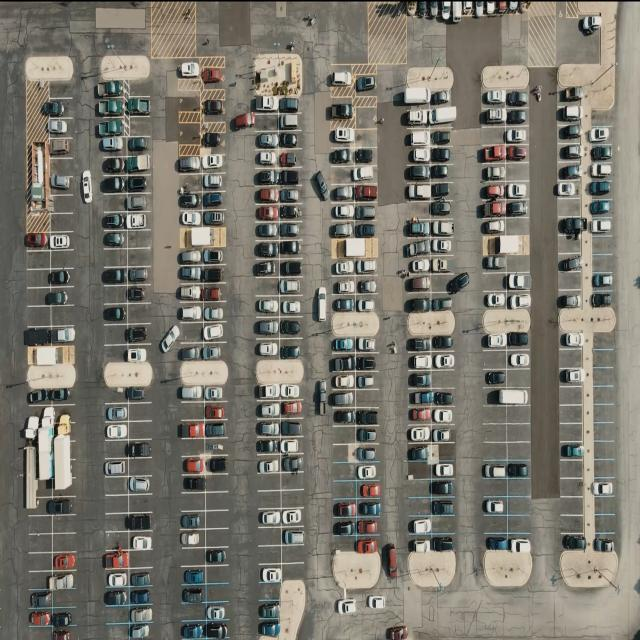space-empty: (486, 405, 530, 426), (353, 105, 378, 128), (197, 227, 225, 247), (104, 323, 129, 345), (27, 306, 52, 328), (178, 321, 203, 342), (501, 370, 530, 388), (557, 199, 583, 219), (482, 478, 508, 498), (102, 192, 128, 212), (254, 276, 280, 296), (28, 533, 54, 553), (28, 552, 54, 572), (128, 230, 154, 250), (482, 350, 508, 370), (52, 306, 76, 327), (178, 124, 202, 145), (127, 304, 151, 325), (508, 478, 533, 498), (205, 490, 230, 510), (353, 129, 378, 149), (333, 424, 358, 444), (129, 420, 154, 440), (178, 402, 203, 422), (508, 496, 533, 516), (102, 285, 128, 304), (50, 195, 76, 214), (482, 442, 508, 461), (28, 515, 54, 534), (180, 548, 206, 567), (258, 490, 284, 509), (128, 248, 154, 267), (405, 201, 431, 220), (127, 117, 151, 137), (105, 530, 129, 550), (558, 386, 582, 406), (180, 491, 204, 511), (258, 526, 282, 546), (26, 250, 50, 270), (207, 564, 231, 584), (130, 550, 154, 570), (592, 385, 616, 405), (206, 510, 230, 530), (408, 478, 432, 498), (104, 477, 129, 496), (482, 273, 507, 292), (409, 460, 434, 479), (332, 462, 357, 481), (592, 332, 617, 351), (49, 79, 74, 98), (481, 128, 507, 146), (104, 605, 130, 623), (504, 514, 530, 532), (593, 421, 615, 442), (559, 478, 582, 498), (355, 388, 378, 408), (593, 441, 616, 461), (127, 77, 151, 96), (560, 349, 584, 368), (506, 163, 530, 182), (104, 513, 128, 532), (54, 532, 78, 551), (177, 173, 201, 192), (29, 570, 53, 589), (508, 442, 532, 461), (558, 235, 582, 254), (593, 349, 617, 368), (103, 440, 127, 459), (130, 494, 154, 513), (204, 473, 228, 492), (258, 473, 282, 492), (129, 403, 153, 422), (104, 495, 128, 514), (178, 95, 202, 114), (593, 366, 617, 385), (128, 457, 152, 476), (333, 480, 357, 499), (560, 496, 584, 515), (51, 212, 75, 231), (560, 515, 584, 534), (280, 562, 304, 581), (180, 440, 205, 458), (53, 590, 78, 608), (280, 546, 305, 564), (255, 113, 280, 131), (180, 602, 205, 620), (430, 516, 455, 534), (506, 423, 531, 441), (26, 270, 51, 288), (28, 288, 53, 306), (484, 516, 510, 533), (590, 255, 612, 275), (594, 496, 616, 516), (594, 458, 616, 478), (432, 274, 454, 294), (280, 471, 303, 490), (591, 236, 614, 255), (281, 489, 304, 508), (260, 546, 283, 565), (433, 371, 456, 390), (206, 528, 229, 547), (409, 496, 432, 515), (54, 516, 78, 534), (102, 248, 126, 266), (507, 256, 531, 274), (330, 167, 354, 185), (506, 217, 530, 235), (104, 385, 128, 403), (50, 158, 74, 176), (589, 108, 613, 126), (484, 424, 508, 442), (594, 405, 616, 424), (560, 423, 582, 442), (560, 459, 583, 477), (260, 584, 283, 602), (51, 250, 74, 268), (558, 273, 581, 291), (560, 406, 583, 424), (207, 584, 230, 602), (434, 444, 457, 462), (595, 515, 616, 534), (104, 346, 127, 363), (106, 624, 130, 640), (333, 445, 355, 462), (333, 536, 356, 552), (30, 627, 53, 640)
space-occupied: (484, 386, 528, 406), (485, 532, 526, 551), (484, 367, 520, 387), (94, 96, 123, 117), (331, 65, 355, 90), (97, 116, 127, 136), (45, 97, 72, 119), (331, 100, 355, 124), (430, 105, 456, 127), (405, 181, 432, 202), (404, 106, 431, 127), (405, 292, 433, 312), (95, 78, 123, 98), (402, 89, 430, 109), (202, 64, 226, 87), (256, 296, 281, 318), (126, 96, 152, 117), (253, 317, 279, 338), (45, 116, 71, 137), (254, 338, 280, 359), (100, 137, 127, 157), (405, 274, 433, 293), (404, 238, 432, 257), (354, 72, 377, 95), (202, 128, 226, 150), (330, 126, 355, 147), (557, 288, 582, 309), (25, 327, 50, 348), (480, 106, 506, 126), (481, 458, 507, 478), (102, 210, 128, 230), (103, 403, 129, 423), (587, 178, 613, 198), (102, 174, 128, 194), (558, 214, 584, 234), (481, 144, 507, 164), (406, 217, 432, 237), (408, 516, 434, 536), (480, 180, 506, 200), (588, 161, 614, 181), (505, 349, 531, 369), (590, 288, 616, 308), (52, 608, 78, 628), (506, 289, 532, 309), (101, 157, 128, 176), (202, 96, 225, 118), (127, 155, 151, 176), (48, 137, 72, 158), (104, 305, 128, 326), (202, 321, 226, 342), (178, 59, 202, 80), (484, 495, 508, 516), (103, 231, 128, 251), (259, 508, 284, 528), (559, 331, 584, 351), (330, 148, 355, 168), (177, 282, 202, 302), (129, 530, 154, 550), (408, 424, 433, 444), (557, 103, 582, 123), (558, 125, 584, 144), (252, 94, 278, 113), (406, 164, 432, 183), (256, 399, 282, 418), (47, 385, 74, 403), (280, 296, 302, 318), (280, 317, 303, 338), (181, 454, 204, 475), (592, 532, 615, 553), (128, 266, 152, 286), (128, 210, 152, 230), (508, 459, 532, 479), (53, 552, 77, 572), (50, 175, 74, 195), (507, 273, 531, 293), (560, 442, 584, 462), (280, 526, 304, 546), (25, 232, 49, 252), (202, 282, 226, 302), (506, 179, 530, 199), (256, 130, 280, 150), (201, 172, 225, 192), (176, 155, 200, 175), (201, 153, 225, 173), (258, 454, 282, 474), (332, 293, 356, 313), (128, 193, 152, 213), (179, 620, 203, 640), (102, 267, 127, 286), (352, 146, 377, 165), (179, 419, 204, 438), (179, 512, 204, 531), (104, 587, 129, 606), (409, 443, 434, 462), (557, 161, 582, 180), (332, 276, 357, 295), (558, 142, 583, 161), (254, 149, 279, 168), (352, 165, 377, 184), (257, 418, 282, 437), (481, 217, 506, 236), (408, 351, 433, 370), (407, 128, 432, 147), (561, 532, 586, 551), (556, 180, 582, 198), (558, 87, 584, 105), (180, 566, 206, 584), (480, 164, 506, 182), (176, 304, 202, 322), (331, 389, 357, 407), (428, 479, 454, 497), (588, 144, 614, 162), (279, 339, 301, 360), (260, 563, 283, 583), (433, 350, 456, 370), (281, 508, 304, 528), (432, 217, 455, 237), (589, 216, 612, 236), (50, 268, 73, 288), (592, 478, 615, 498), (129, 567, 152, 587), (260, 600, 283, 620), (203, 303, 226, 323), (278, 148, 301, 168), (260, 620, 283, 640), (180, 528, 203, 548), (129, 476, 153, 495), (588, 126, 612, 145), (128, 137, 152, 156), (255, 220, 279, 239), (104, 551, 128, 570), (205, 455, 229, 474), (558, 255, 582, 274), (129, 441, 153, 460), (333, 497, 357, 516), (410, 388, 434, 407), (506, 144, 530, 163), (128, 175, 152, 194), (589, 199, 613, 218), (482, 288, 506, 307), (355, 481, 379, 500), (407, 145, 431, 164), (178, 266, 202, 285), (409, 371, 433, 390), (331, 202, 355, 221), (432, 459, 456, 478), (333, 336, 357, 355), (354, 276, 378, 295), (129, 514, 153, 533), (333, 408, 357, 427), (354, 517, 378, 536), (332, 372, 356, 391), (48, 286, 72, 305), (202, 343, 226, 362), (354, 535, 378, 554), (103, 421, 128, 439), (255, 260, 280, 278), (180, 586, 205, 604), (178, 384, 203, 402), (430, 534, 455, 552), (127, 284, 152, 302), (178, 248, 203, 266), (407, 257, 432, 275), (332, 354, 357, 372), (506, 332, 531, 350), (481, 200, 506, 218), (407, 406, 432, 424), (52, 496, 74, 516), (104, 458, 127, 477), (53, 327, 76, 346), (279, 277, 302, 296), (560, 368, 583, 387), (433, 424, 456, 443), (54, 570, 77, 589), (506, 126, 529, 145), (507, 107, 530, 126), (280, 454, 303, 473), (433, 406, 456, 425), (105, 568, 128, 587), (354, 203, 377, 222), (178, 209, 201, 228), (280, 221, 303, 240), (280, 418, 303, 437), (205, 403, 228, 422), (29, 591, 53, 609), (330, 184, 354, 202), (201, 190, 225, 208), (278, 260, 302, 278), (356, 498, 380, 516), (279, 241, 303, 259), (256, 241, 280, 259), (201, 210, 225, 228), (352, 184, 376, 202), (480, 90, 504, 108), (256, 438, 280, 456), (353, 445, 377, 463), (429, 200, 453, 218), (254, 168, 278, 186), (256, 185, 280, 203), (430, 497, 454, 515), (506, 91, 530, 109), (428, 90, 452, 108), (482, 333, 506, 351), (26, 385, 50, 403), (353, 462, 378, 479), (128, 323, 149, 343), (205, 419, 227, 438), (206, 601, 228, 620), (182, 475, 204, 494), (430, 181, 452, 200), (205, 621, 227, 640), (432, 294, 454, 313), (206, 548, 229, 566), (483, 254, 506, 272), (51, 233, 74, 251), (130, 588, 153, 606), (179, 191, 202, 209), (333, 518, 356, 536), (280, 399, 303, 417), (29, 610, 52, 628), (429, 129, 452, 147), (592, 272, 615, 290), (334, 260, 357, 278), (506, 200, 529, 218), (280, 438, 303, 456), (331, 220, 354, 238), (430, 257, 453, 275), (202, 266, 225, 284), (407, 336, 431, 353), (257, 204, 281, 221), (430, 336, 454, 353), (355, 256, 376, 275), (434, 388, 456, 406), (356, 425, 378, 443), (278, 131, 300, 149), (354, 372, 376, 390), (202, 247, 224, 265), (354, 296, 376, 314), (430, 238, 452, 256), (355, 409, 377, 427), (279, 185, 301, 203), (431, 146, 454, 163), (257, 384, 280, 401), (429, 165, 452, 182), (203, 385, 226, 402), (127, 345, 150, 362), (128, 386, 152, 402), (280, 96, 300, 115), (278, 113, 299, 131), (355, 353, 376, 371), (178, 343, 199, 361), (280, 384, 302, 401), (279, 204, 301, 221), (353, 222, 375, 239), (354, 337, 376, 354), (279, 170, 301, 187), (131, 605, 153, 622), (410, 534, 432, 551), (129, 624, 152, 640), (178, 110, 202, 123), (51, 627, 73, 640)
